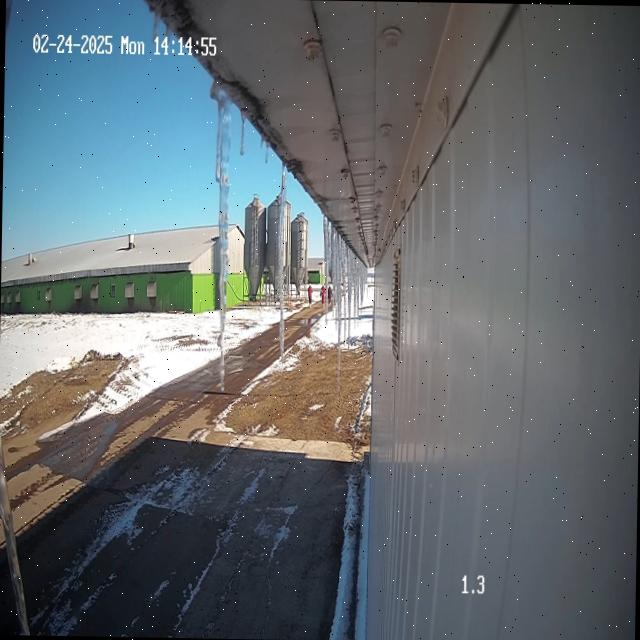Red uniform: (327, 280, 332, 310), (307, 282, 312, 306), (320, 284, 325, 307)
